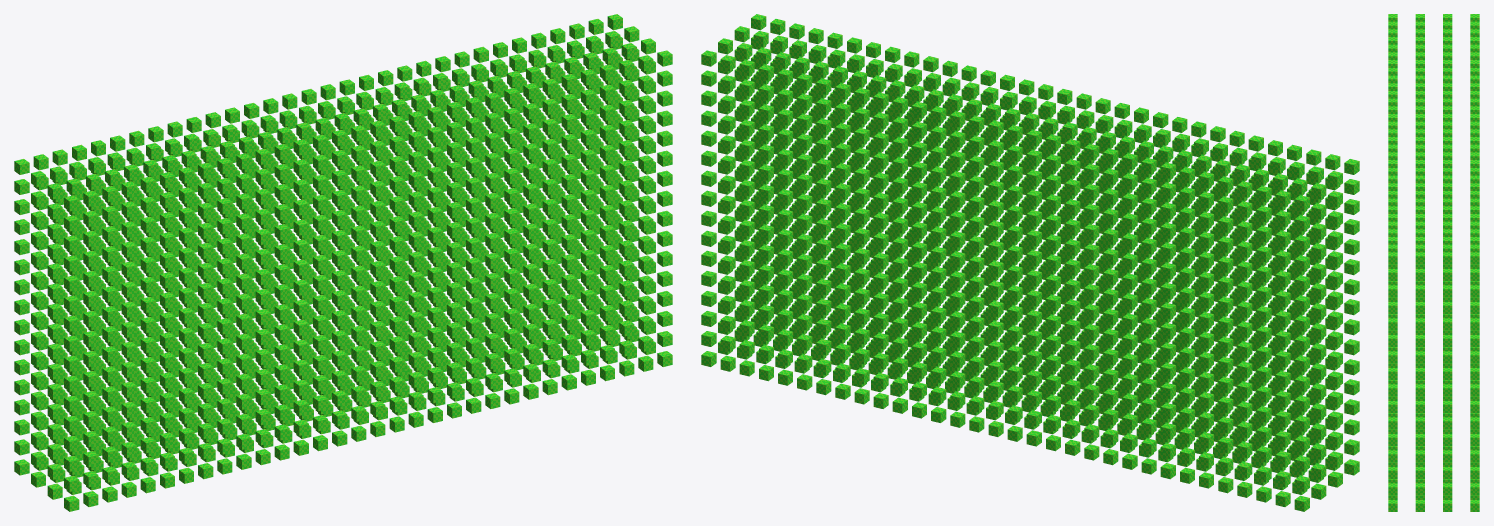
The model's file is BenchmarkScene.gltf.
3 views of the same model, side by side, from view 1: azimuth 30°, elevation 25°; view 2: azimuth 150°, elevation 25°; view 3: azimuth 270°, elevation 25° (orthographic). The views are drawn at different scales.
Bounding box in the file's own units: 63 × 31 × 10.
1 material, 1 textured.
